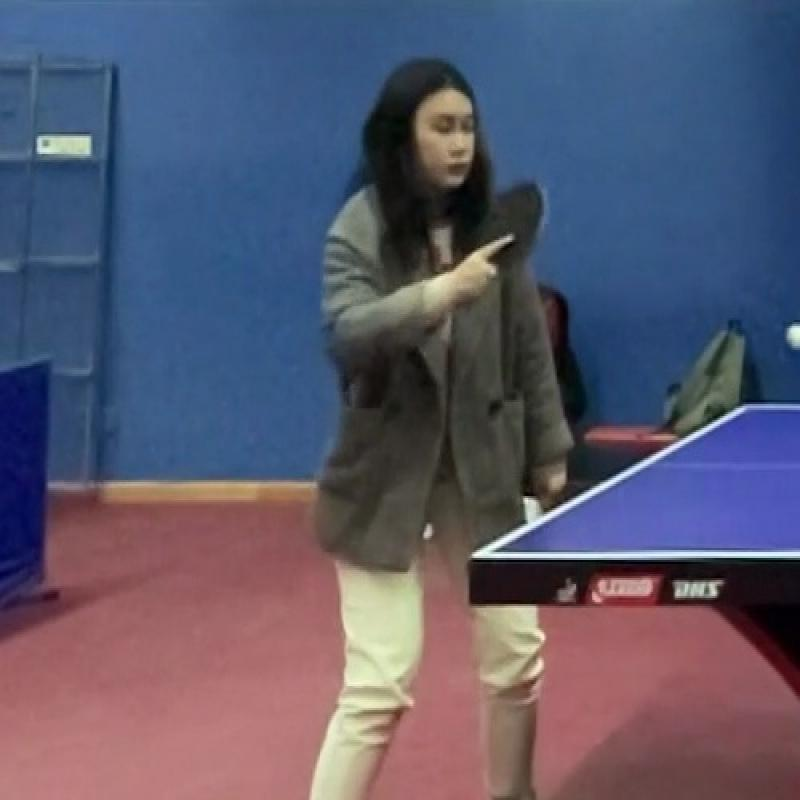bats: (463, 176, 566, 291)
